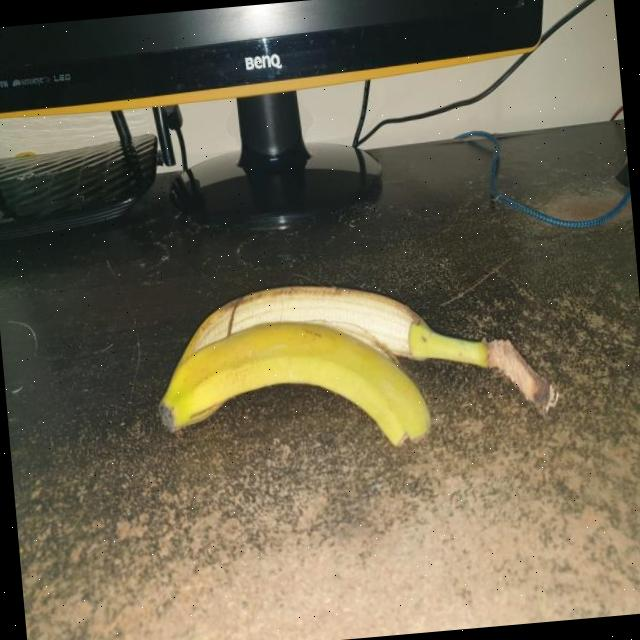banana-peel: (148, 260, 560, 467)
